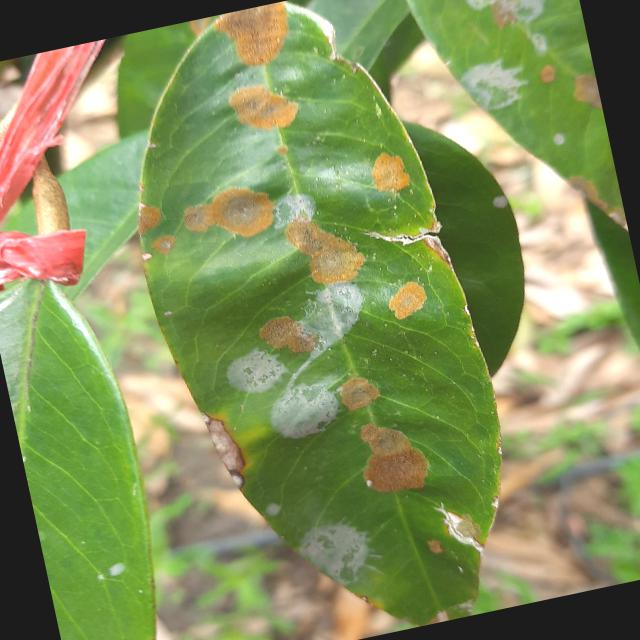Algal Leaf Spot: (84, 0, 547, 639)
